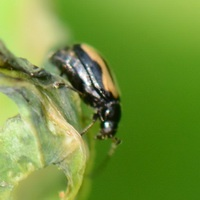insect: (50, 44, 120, 142)
